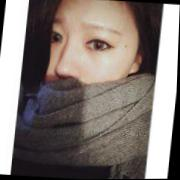WRONG: (30, 2, 143, 122)
